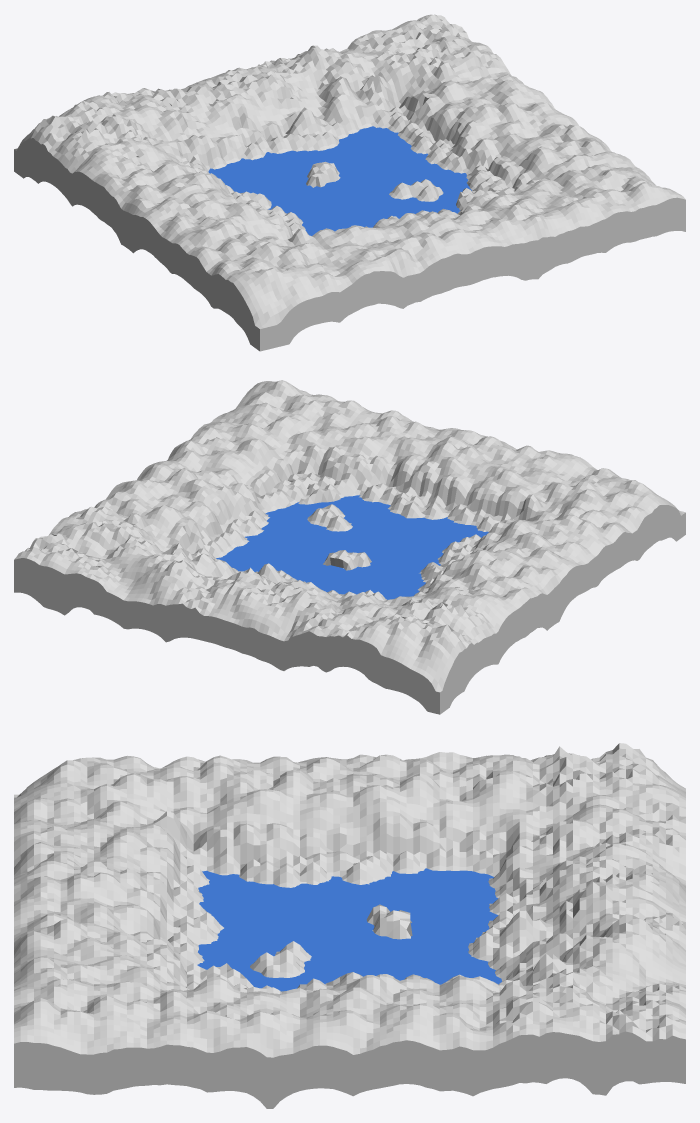
Rendered from Terrain2.fbx.
3 views of the same model, one above another, from view 1: azimuth 30°, elevation 25°; view 2: azimuth 150°, elevation 25°; view 3: azimuth 270°, elevation 25° (orthographic). The views are drawn at different scales.
Visible parts, largest first — view 1: Terrain, Ocean; view 2: Terrain, Ocean; view 3: Terrain, Ocean.
Boxes of the visible parts, box(x1,y1,x2,y2) form: Terrain: box(14, 14, 685, 351); Ocean: box(208, 126, 471, 235); Terrain: box(14, 380, 685, 714); Ocean: box(216, 495, 488, 599); Terrain: box(14, 743, 685, 1108); Ocean: box(197, 868, 501, 991).
Size of the model in its own units: 40000 by 6389 by 40000.
